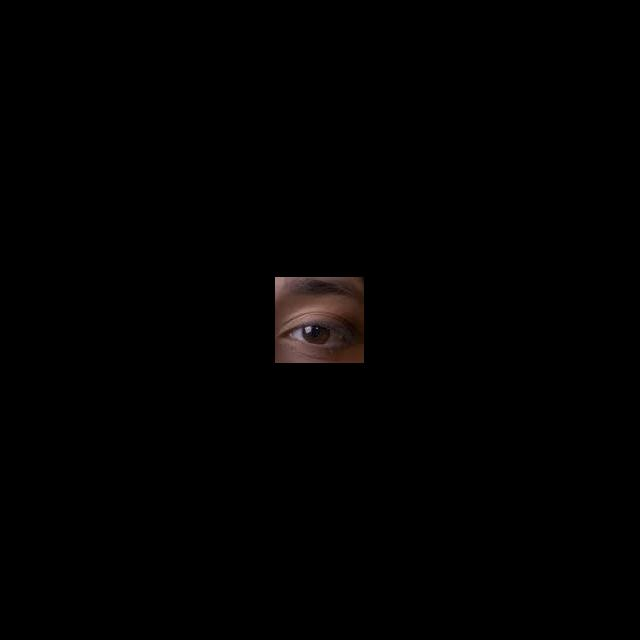eye: (293, 325, 343, 346)
iris: (303, 326, 330, 343)
